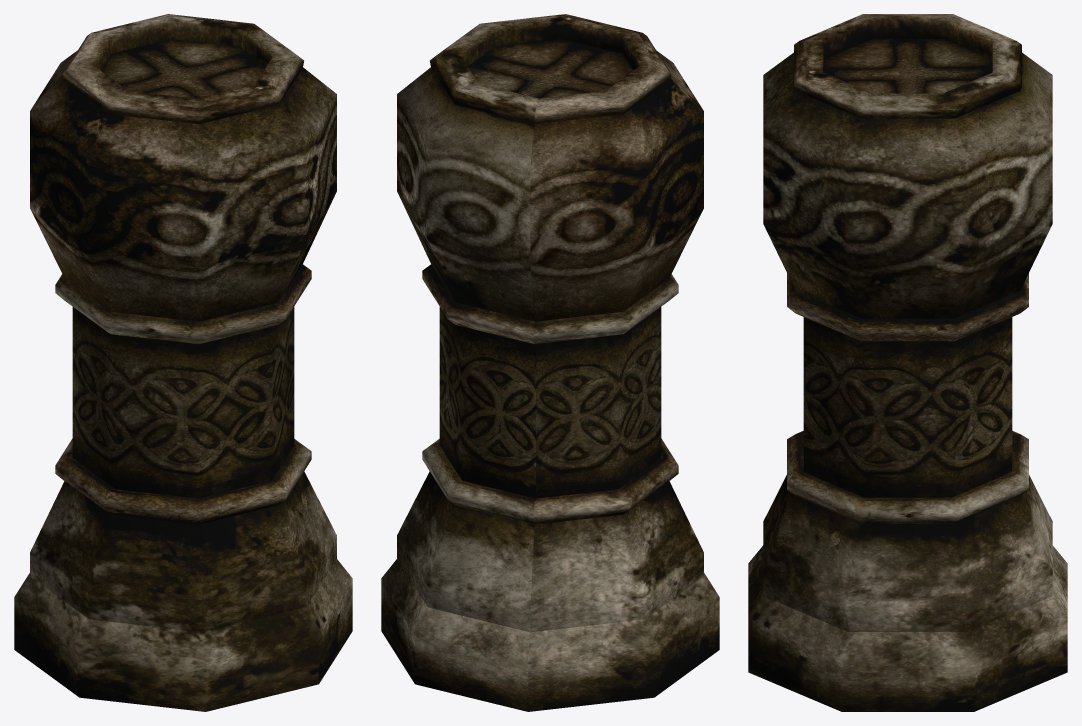
The model's file is welder_worn.dae.
3 renders of one model, left to right at view 1: azimuth 30°, elevation 25°; view 2: azimuth 150°, elevation 25°; view 3: azimuth 270°, elevation 25°, orthographic.
Visible parts, largest first — view 1: castlebase_stair_welder; view 2: castlebase_stair_welder; view 3: castlebase_stair_welder.
Boxes of the visible parts, left/top/right/bottom form: castlebase_stair_welder: left=14, top=14, right=352, bottom=711; castlebase_stair_welder: left=381, top=14, right=719, bottom=711; castlebase_stair_welder: left=748, top=14, right=1067, bottom=711.
Bounding box in the file's own units: 0.9166 × 1.86 × 0.9166.
